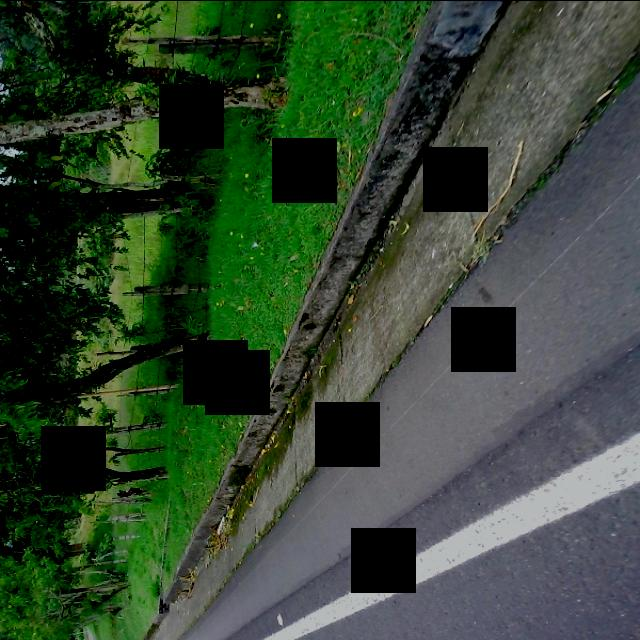DITCH: (144, 1, 638, 639)
